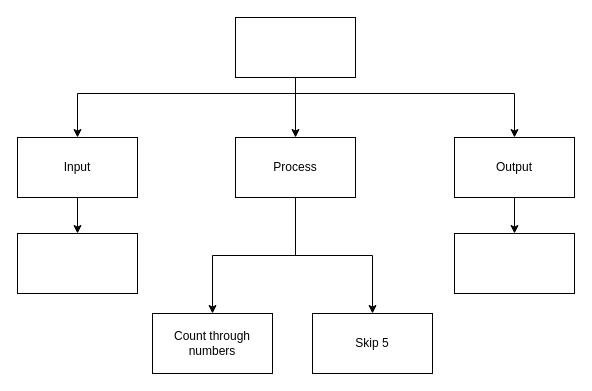
Some shapes in this 592 by 391 pixel diagram are drawn without their labels. The shapes that lost their labels are listed below. From the top down, each one's centre as x and y in pixels, then its label:
the point at 295,47: Countdown
the point at 77,263: Get positive_integer
the point at 514,263: Show "Current variable value: xxx"
